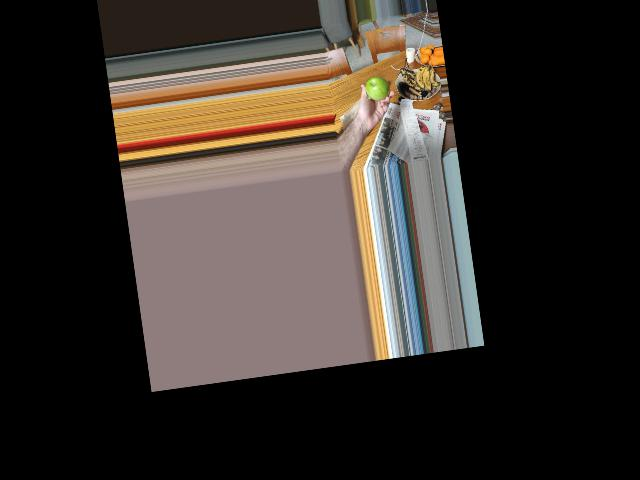apple: (363, 72, 392, 103)
